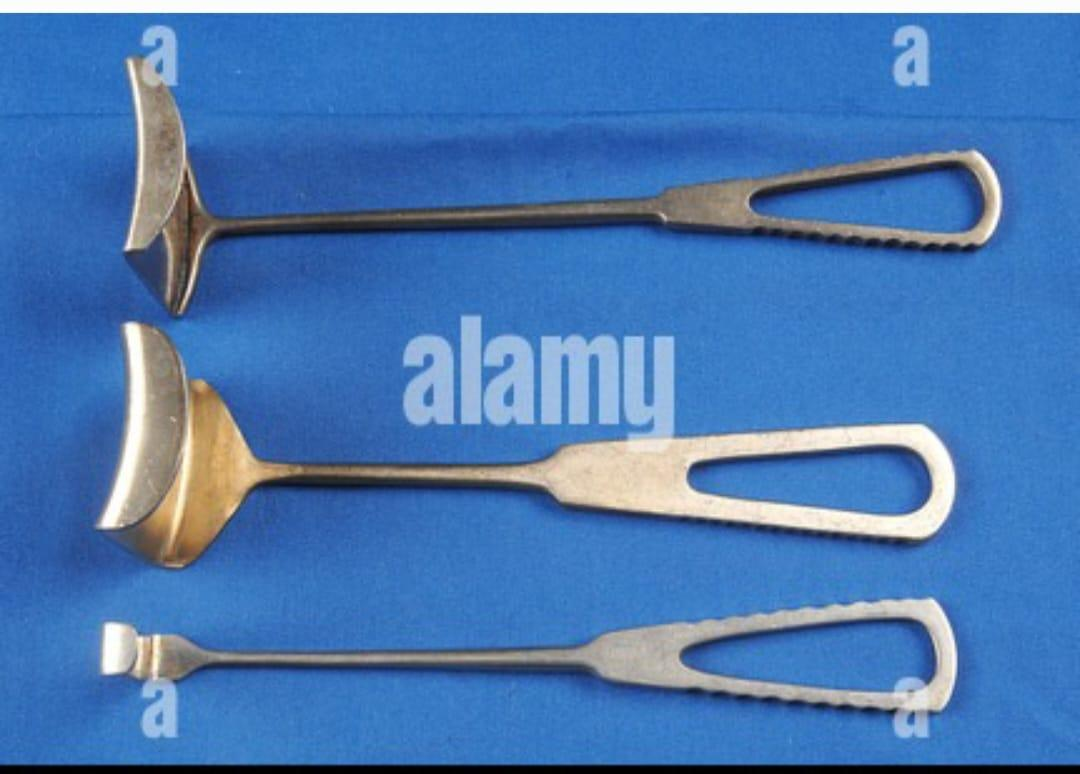Morris Retractor: (112, 52, 1010, 318), (93, 313, 966, 574)
